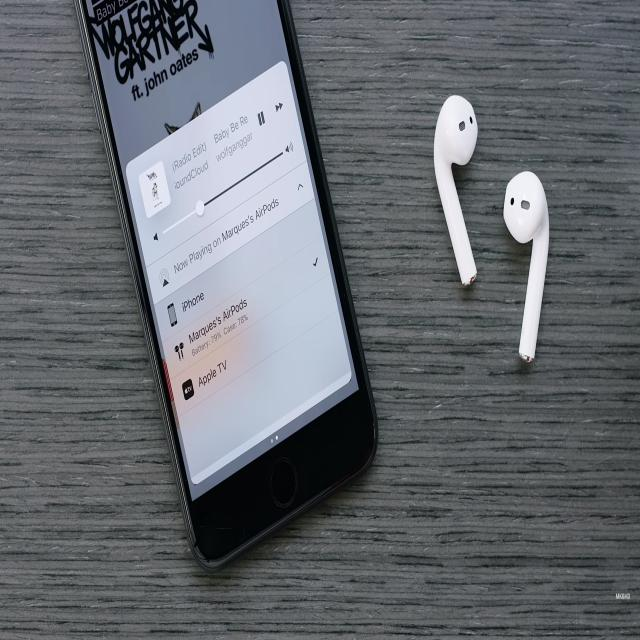airpods: (502, 170, 550, 364), (433, 92, 480, 289)
